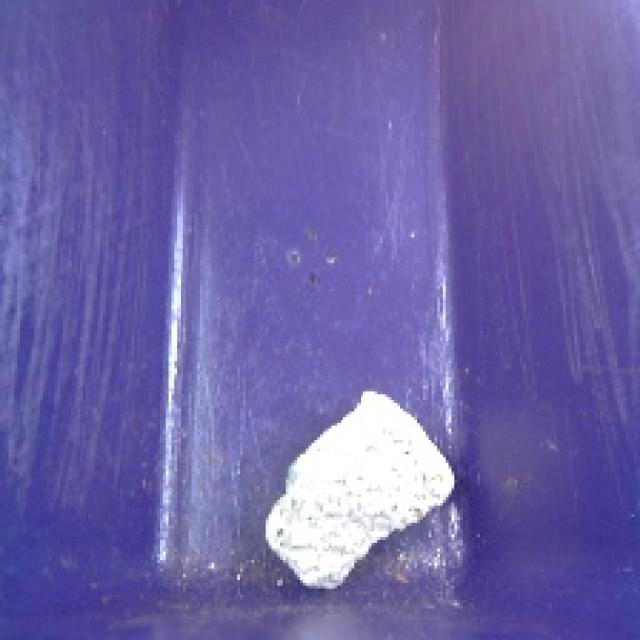brick: (256, 382, 463, 594)
